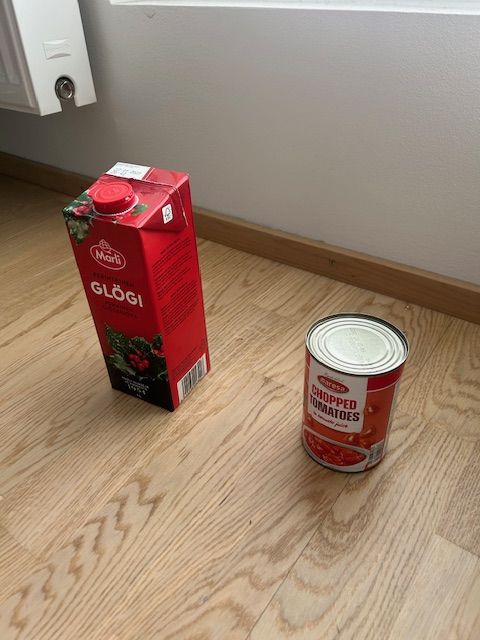Dryckeskartong: (61, 161, 213, 412)
Konservburk: (301, 312, 411, 473)
